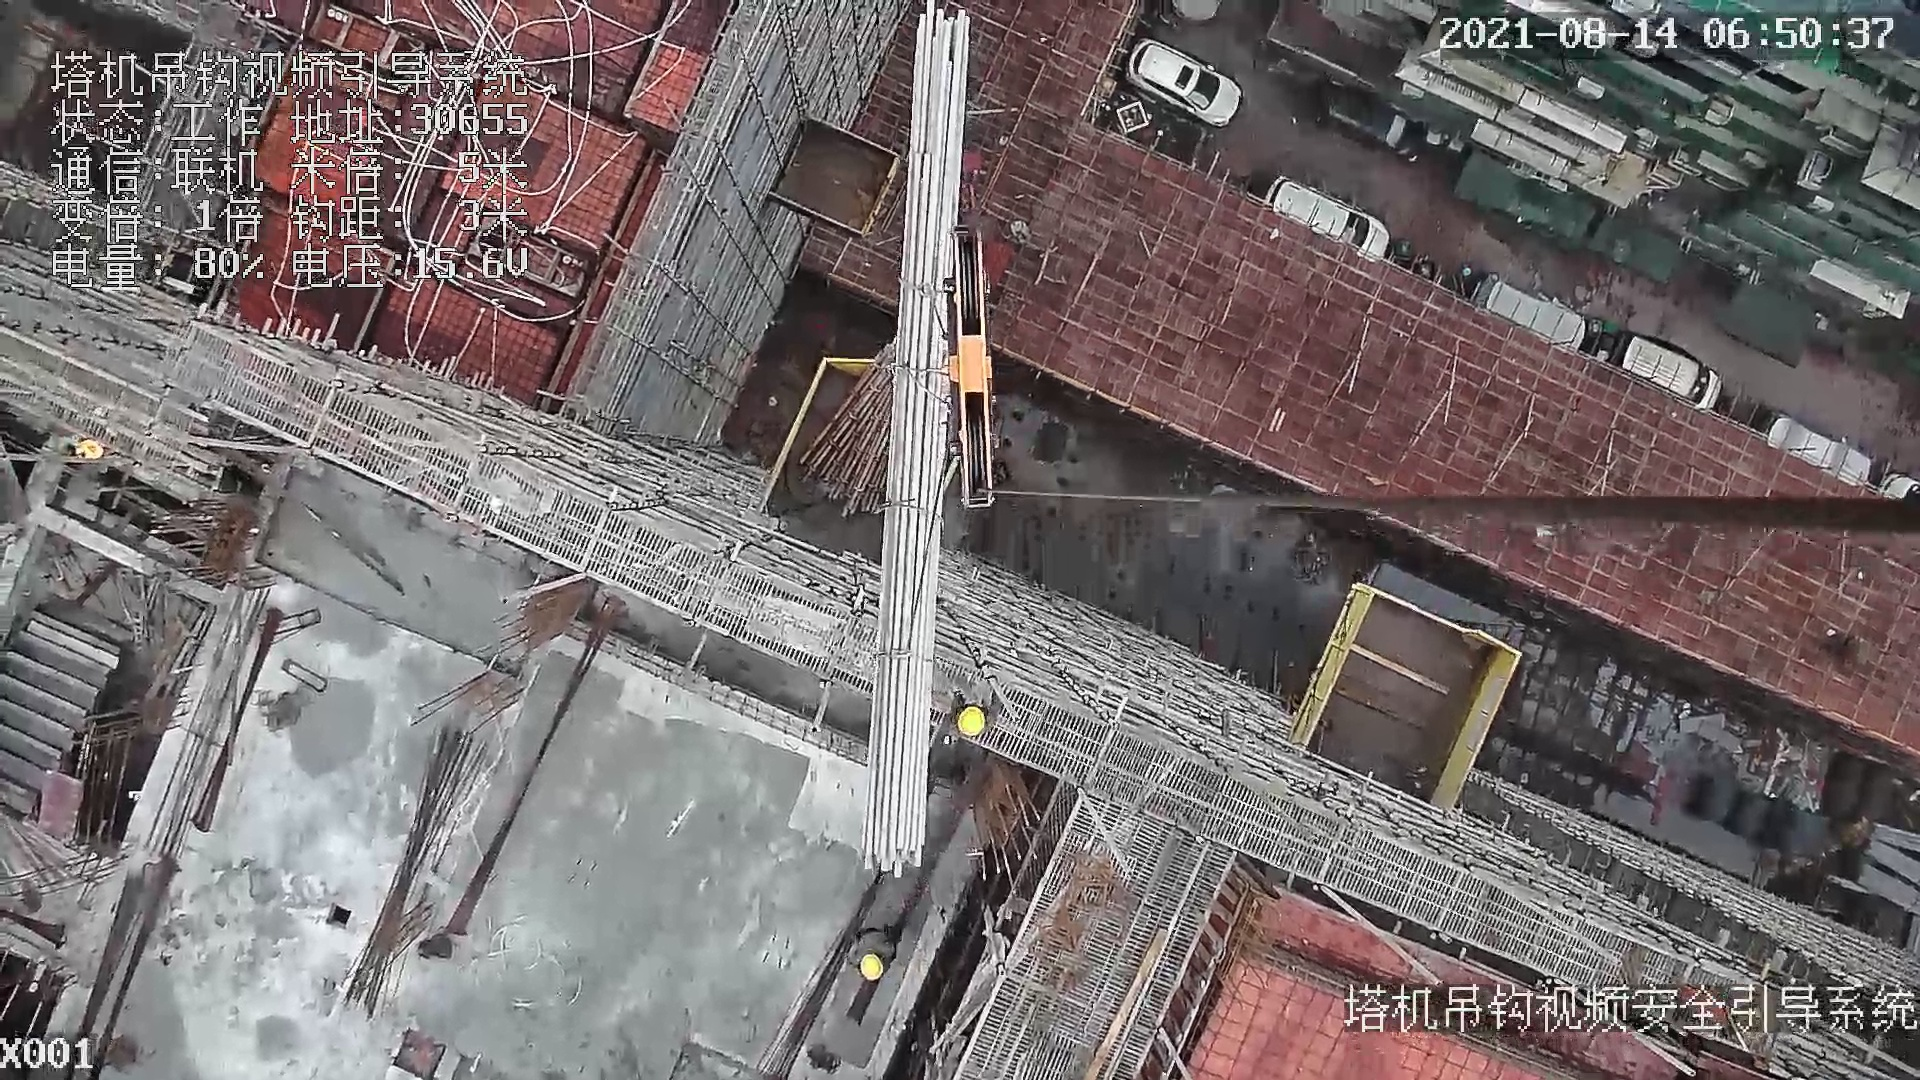helmet: (846, 943, 895, 991), (949, 694, 995, 743), (73, 436, 106, 461)
hook: (936, 222, 1001, 509)
person: (946, 689, 1012, 750), (851, 920, 898, 983)
